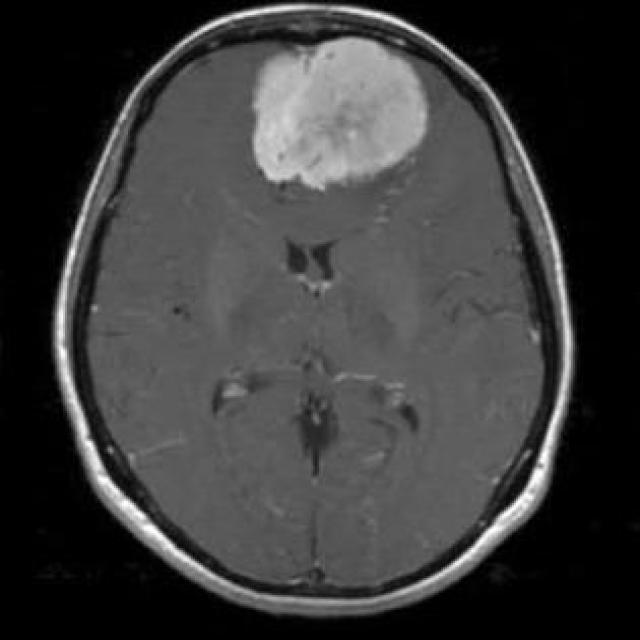Tumor: (250, 30, 429, 193)
